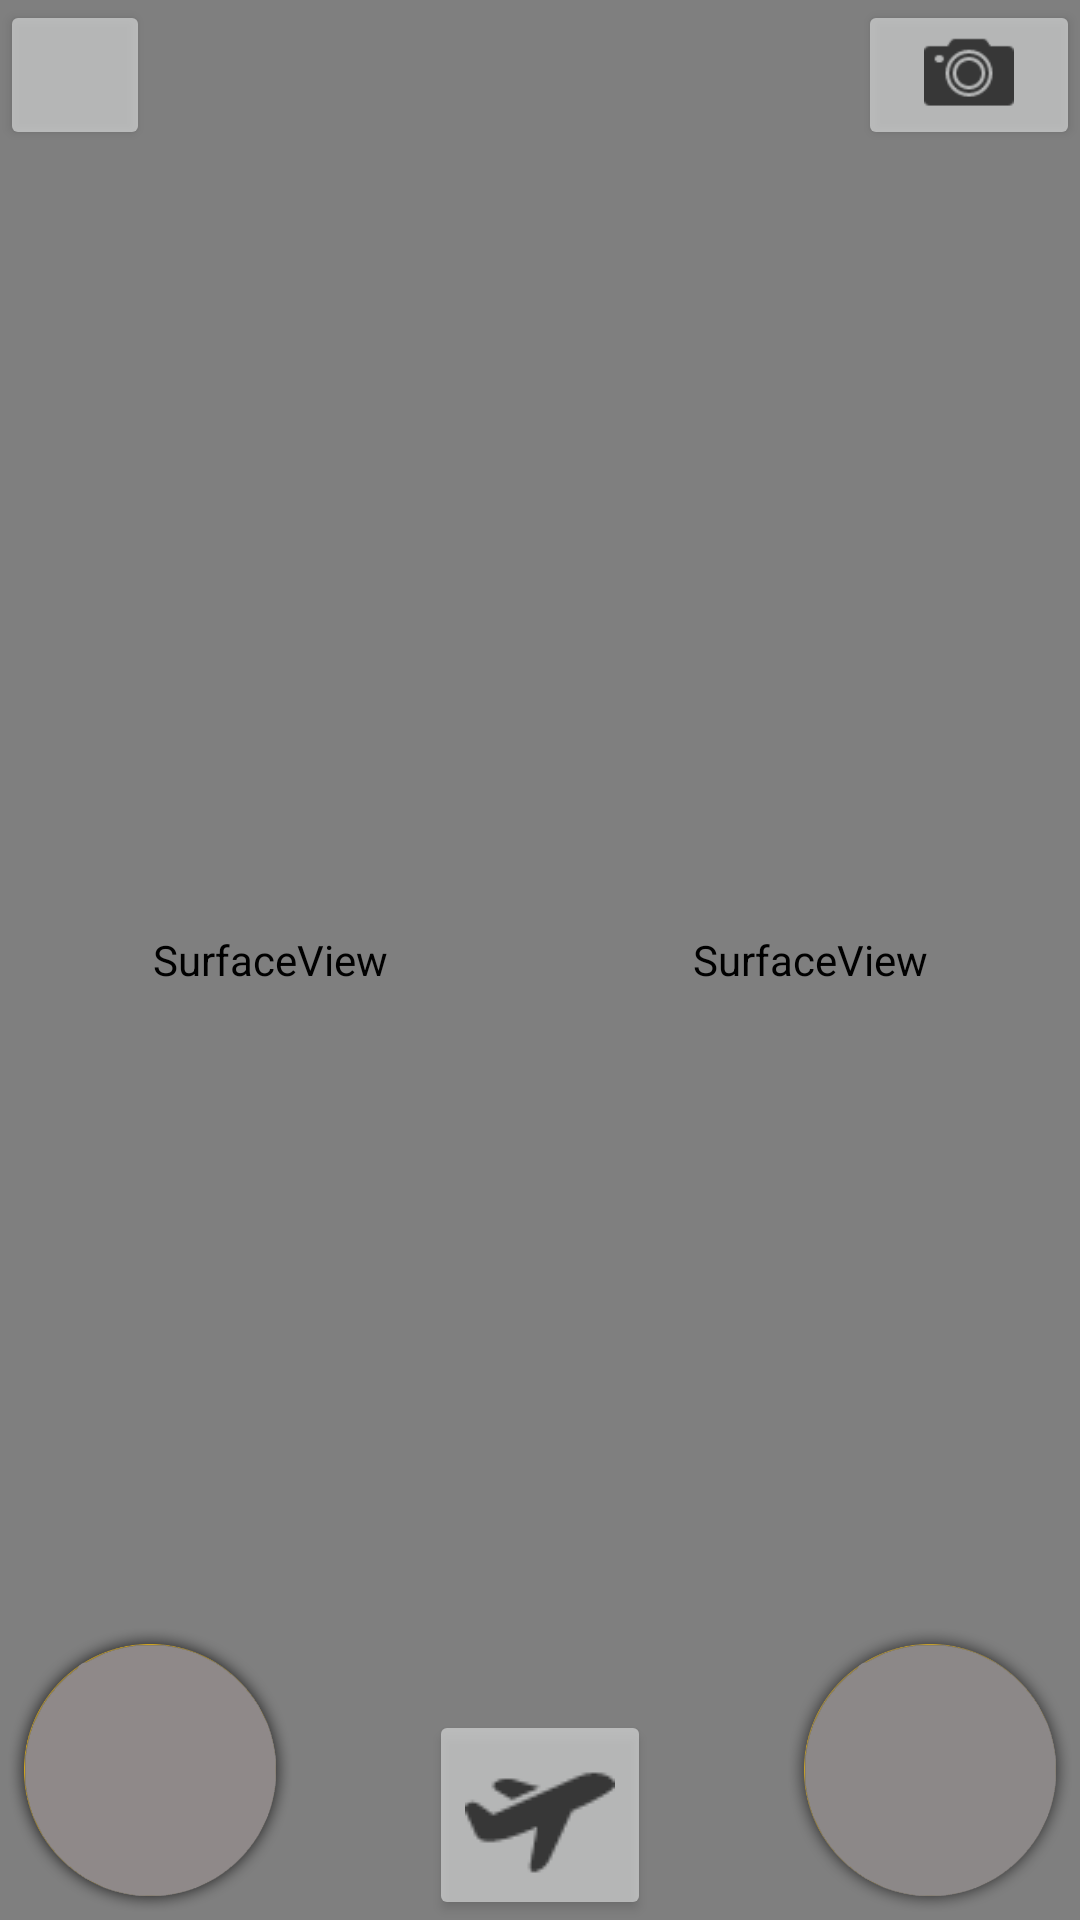

Icons on this 1080*1920 Android screen, each with the point to tap as (x=x, y=y):
takeoff: (x=540, y=1815)
takephoto: (x=969, y=75)
